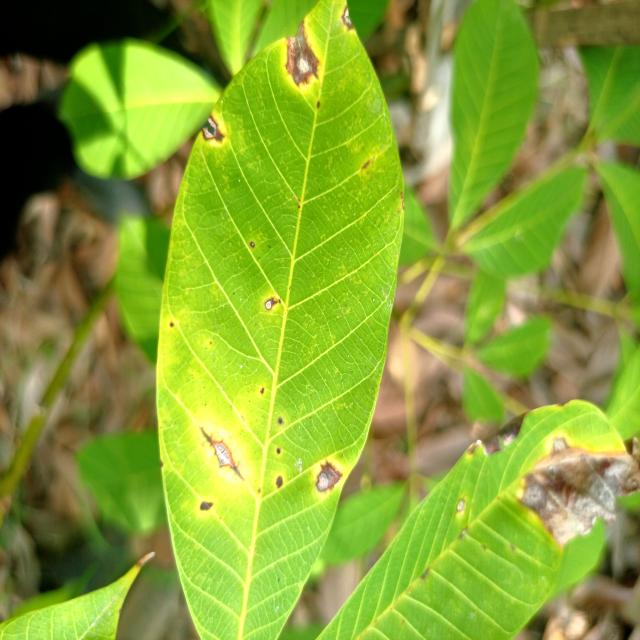Colletotrichum: (265, 300, 272, 310), (278, 417, 283, 424), (250, 242, 255, 248), (276, 448, 280, 454)
Corynespora: (200, 426, 242, 479)
Leaf-Blight: (519, 436, 640, 546), (285, 20, 320, 87), (203, 117, 217, 138), (317, 472, 328, 490), (344, 8, 353, 30)
